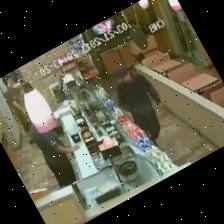person: (114, 66, 160, 145), (29, 125, 78, 188), (2, 75, 33, 144)
